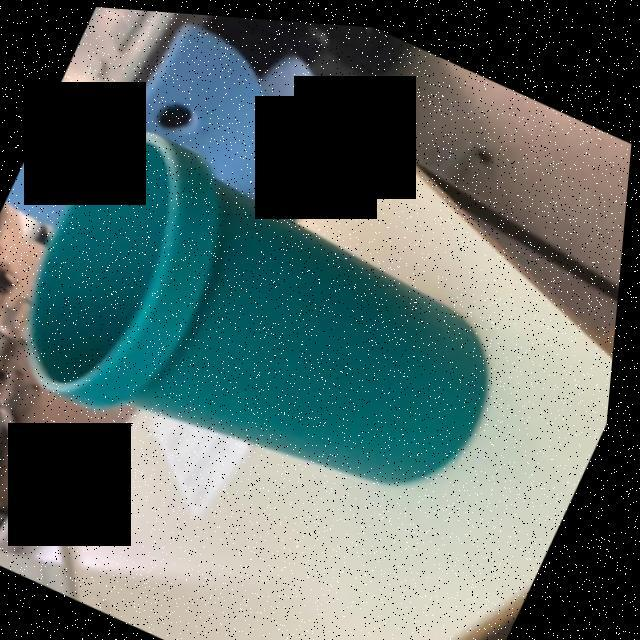bin: (0, 86, 575, 573)
